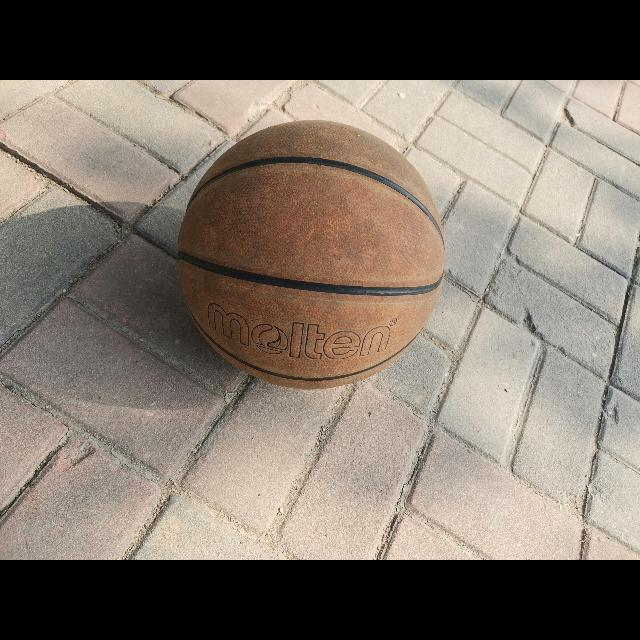basketball: (178, 119, 444, 389)
